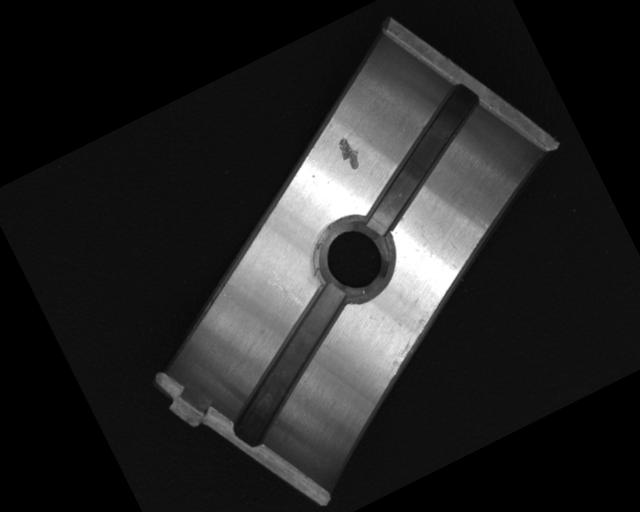bruise: (332, 131, 368, 174)
gap: (195, 279, 385, 452), (329, 78, 512, 237)
hole: (304, 207, 400, 308)
nick: (264, 263, 305, 316)
